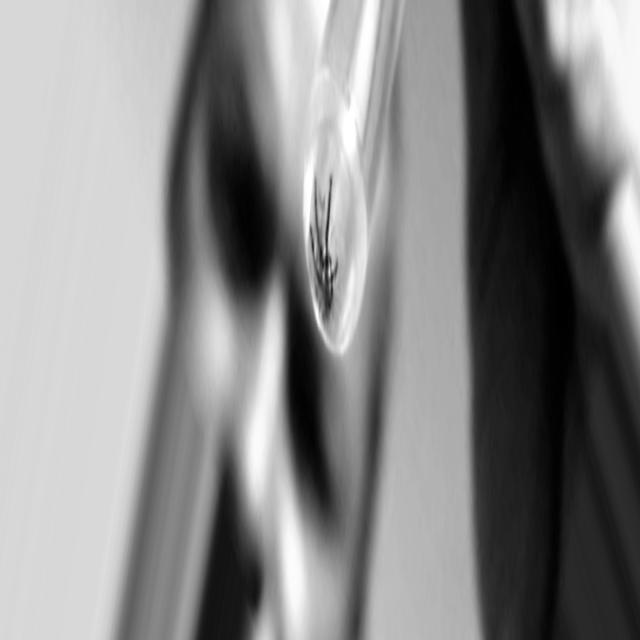larvas: (309, 174, 328, 263), (307, 225, 325, 292), (324, 257, 339, 300), (325, 174, 333, 249)
